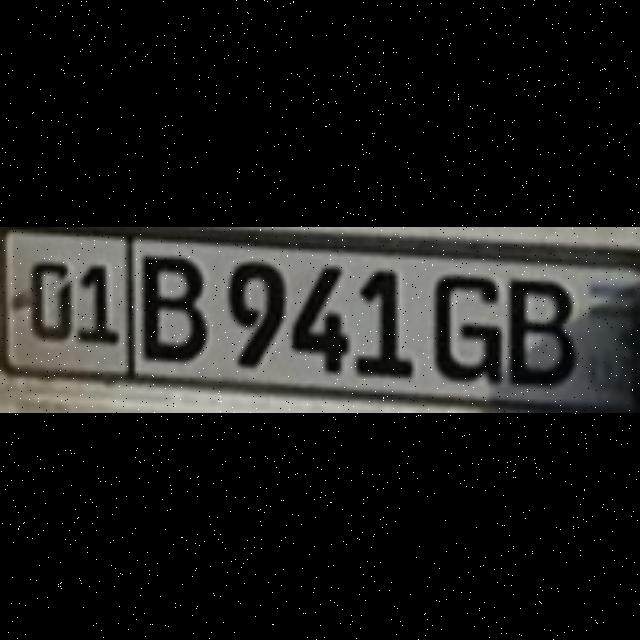0: (28, 259, 68, 339)
1: (354, 269, 408, 375), (76, 263, 115, 343)
4: (290, 266, 340, 368)
9: (224, 259, 280, 365)
B: (505, 279, 573, 385), (138, 250, 202, 356)
G: (431, 272, 499, 384)
